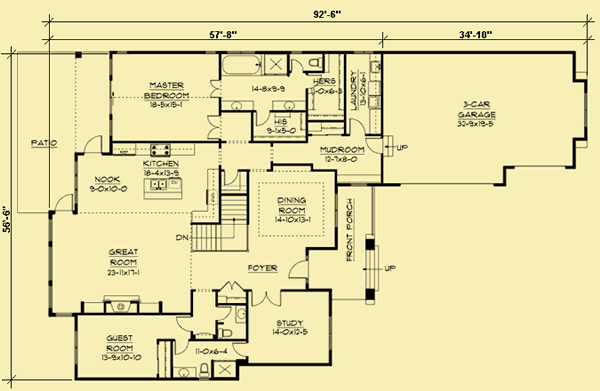bathroom is with a tub, two small sinks, shower space and large sink: (218, 55, 329, 110)
bathroom with a shower, small and large sinks: (173, 341, 240, 382)
kitchen is having a cooking range and twin sink: (110, 139, 221, 213)
laundry room is with washer and dryer: (342, 50, 382, 135)
laundry room with washer and dryer: (342, 53, 385, 137)
small bathroom with small and large sink: (214, 302, 247, 343)
